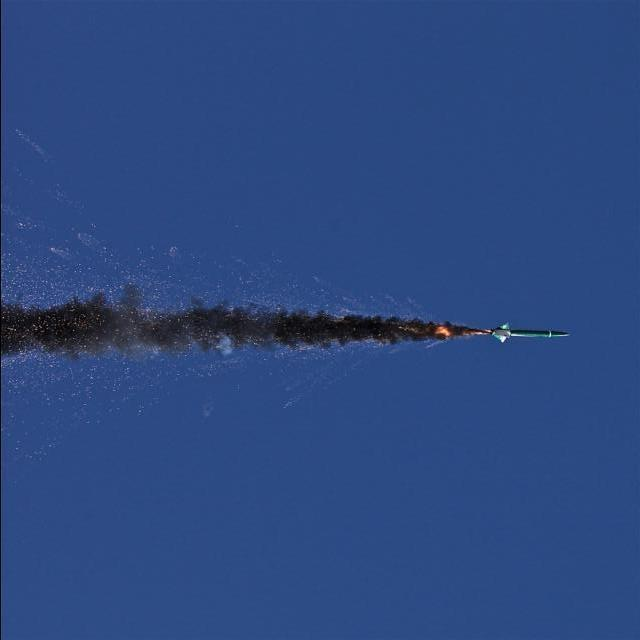missile: (489, 319, 572, 354)
